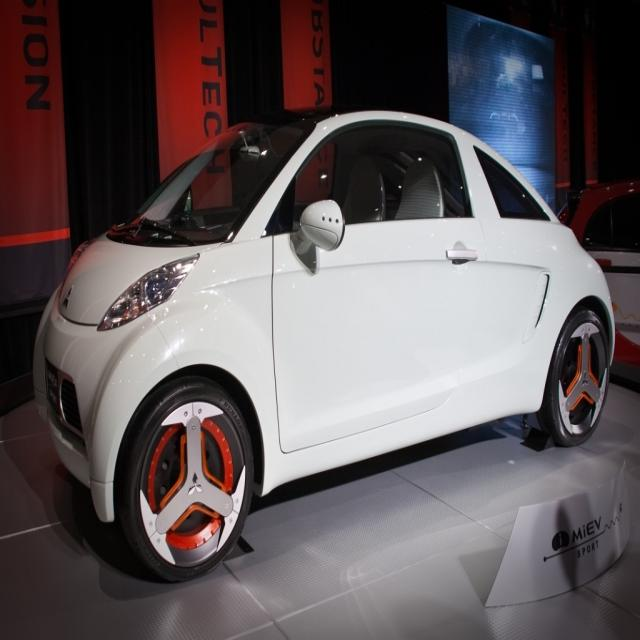car: (50, 104, 611, 567)
